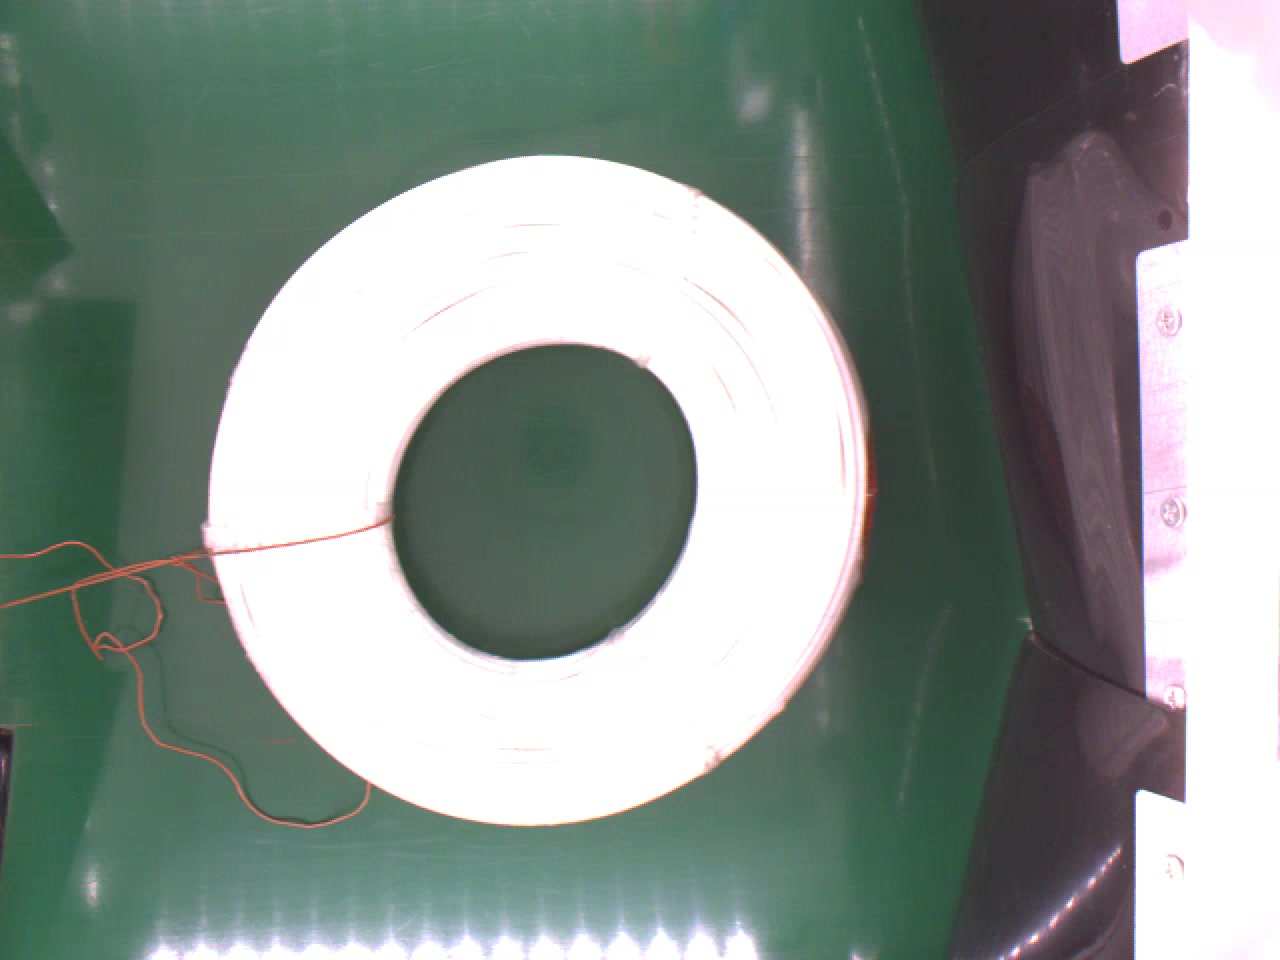white: (202, 150, 880, 821)
